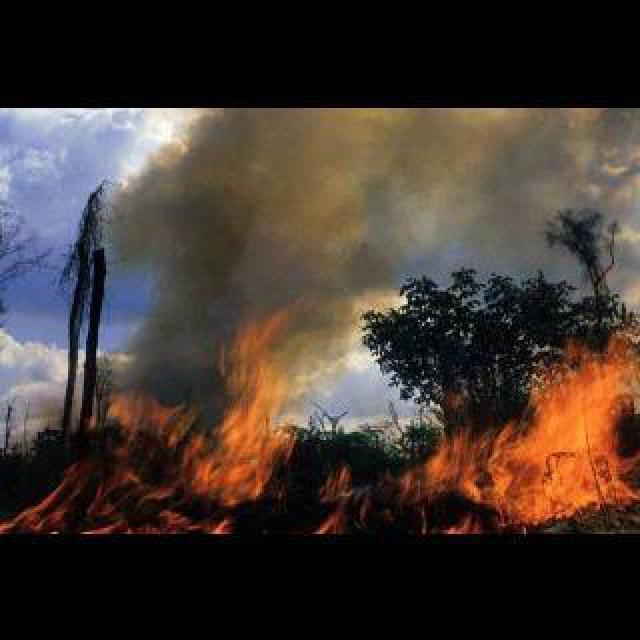fire: (89, 387, 300, 528), (459, 379, 630, 506)
smoke: (126, 111, 537, 312)
